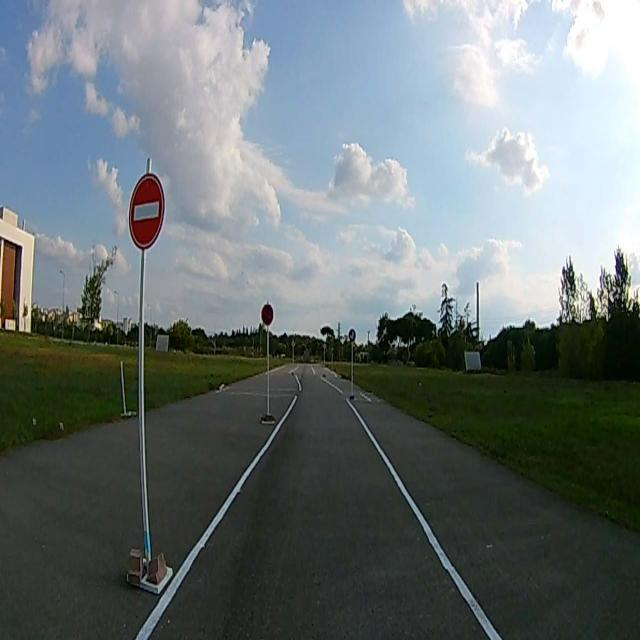girisyok: (128, 174, 162, 247)
